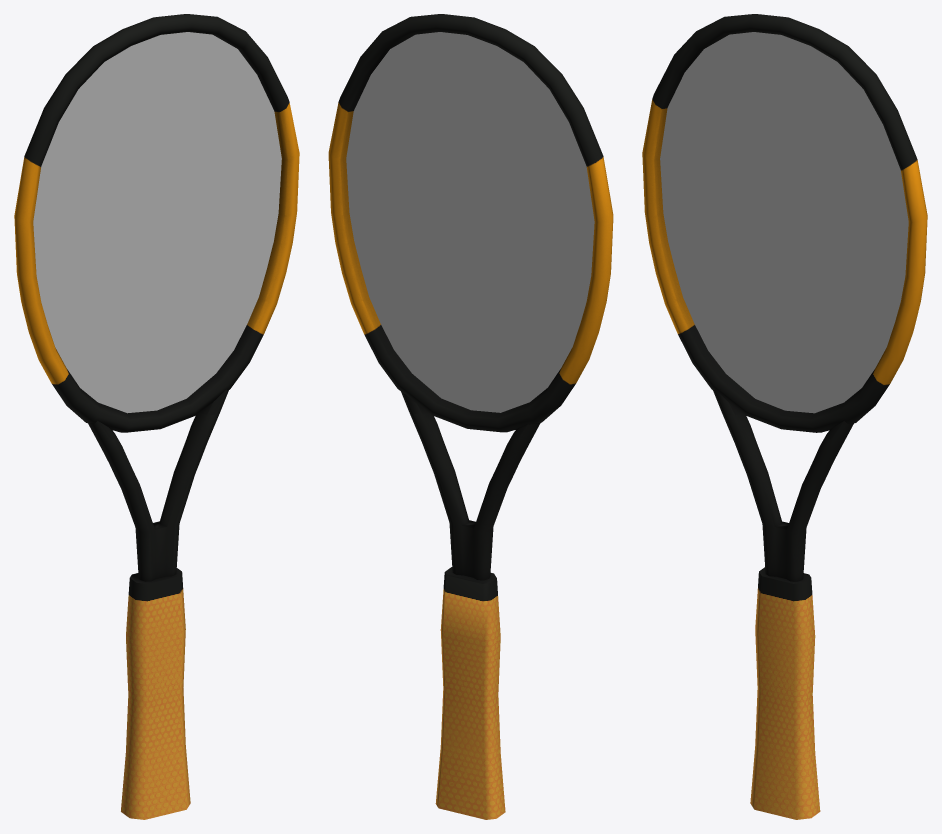
The model's file is Racket2.fbx.
The picture shows the model from 3 angles, left to right: view 1: azimuth 30°, elevation 25°; view 2: azimuth 150°, elevation 25°; view 3: azimuth 330°, elevation 25°; orthographic projection.
Parts seen in each view (by area): view 1: Racket2; view 2: Racket2; view 3: Racket2.
Part boxes in pixels (left/top/right/bottom): Racket2: left=14, top=14, right=299, bottom=819; Racket2: left=328, top=14, right=613, bottom=819; Racket2: left=642, top=14, right=927, bottom=819.
Bounding box in the file's own units: 0.00259 × 0.00693 × 0.00029.
